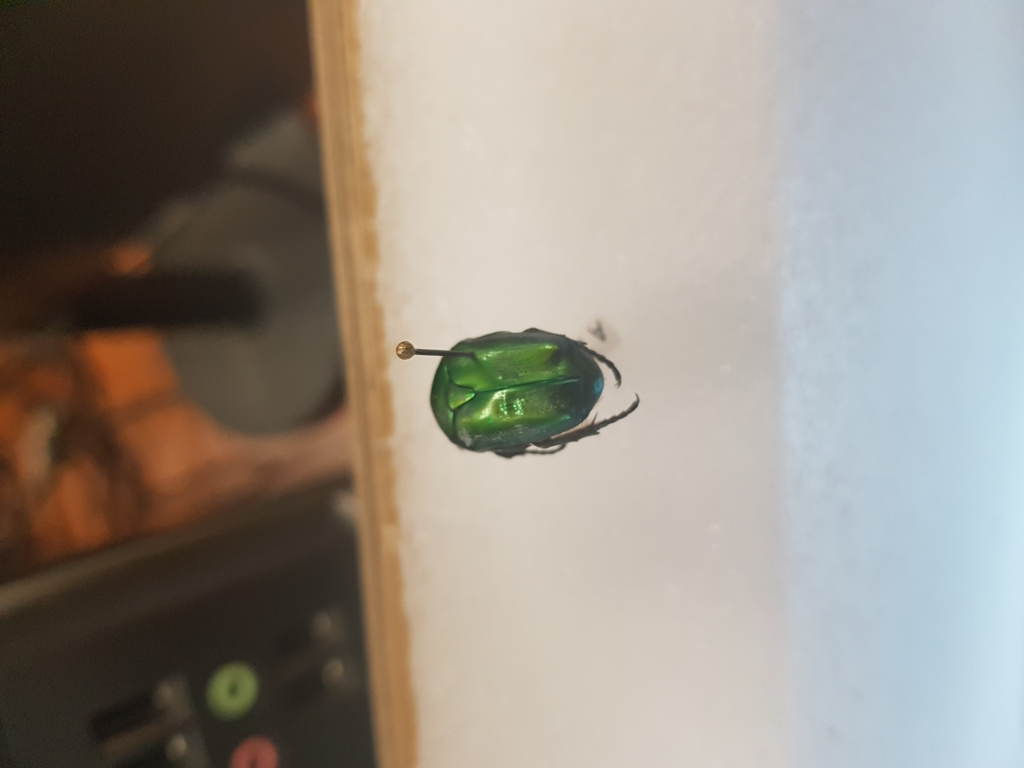Protaetia_cuprea_ignicollis: (423, 312, 655, 465)
